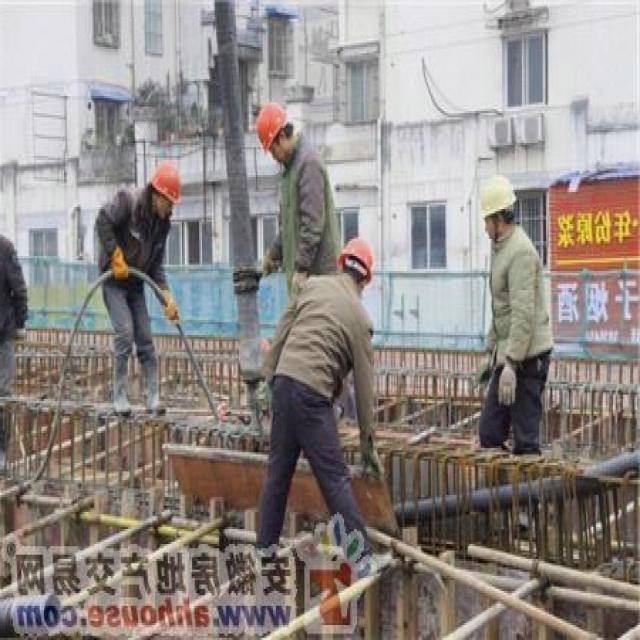hand_glove: (353, 432, 390, 479), (494, 363, 519, 406), (158, 290, 182, 323), (110, 250, 131, 281)
head_helmet: (479, 173, 519, 220), (255, 100, 289, 151), (336, 234, 377, 274), (150, 162, 183, 205)
person: (247, 235, 386, 555), (86, 159, 190, 422), (476, 171, 554, 465), (255, 99, 340, 307)
shoes: (139, 346, 170, 418), (109, 349, 138, 420)
